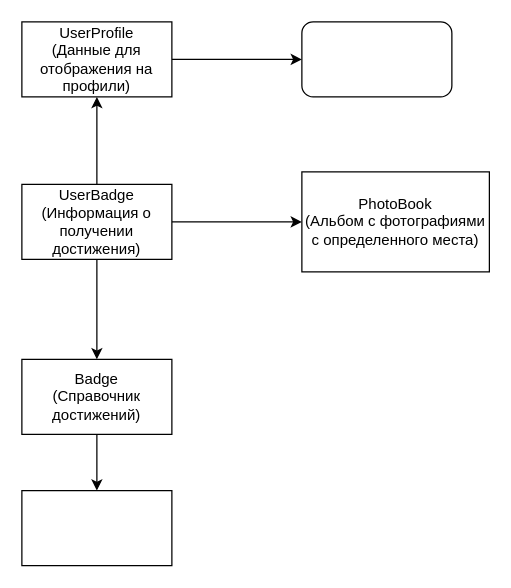
Some shapes in this 511 by 588 pixel diagram are drawn without their labels. The shapes that lost their labels are listed below. From the top down, each one's centre as x and y in pixels, then its label:
At pixel 376 59: "User (Основные данные необходимые для регистрации)".
At pixel 96 527: "City (Город где можно получить достижения)".
